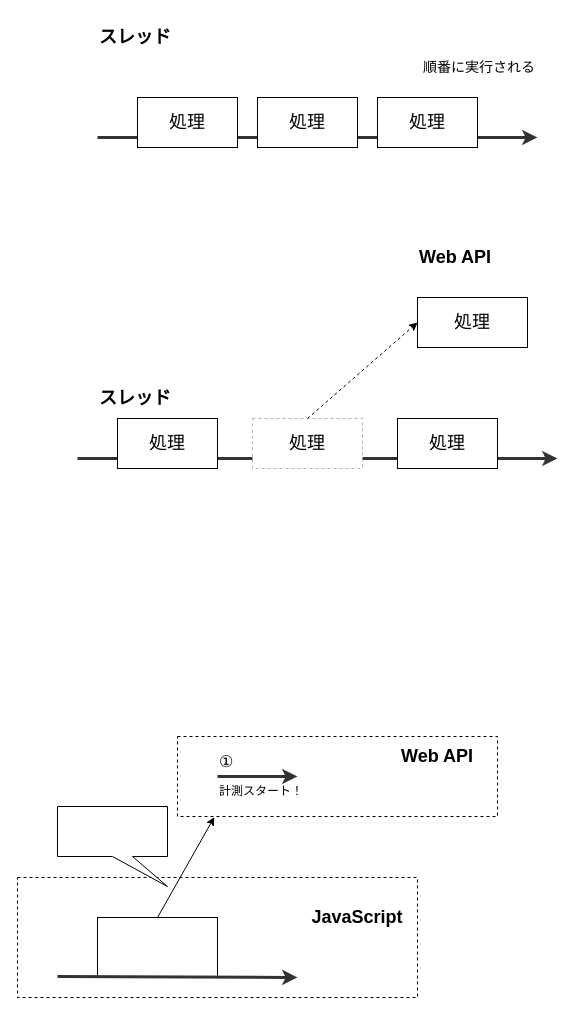
The diagram is 584 pixels wide and 1015 high, and some of its shapes have lost their labels. The shapes that lost their labels are listed below. From the top down, each one's centre as x and y in pixels, then its label:
At (x=112, y=846): "やっておいて！".
At (x=157, y=947): "１つ目の setTimeout()".
